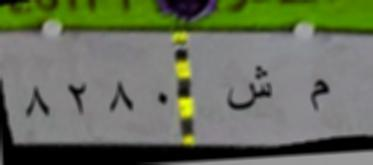0: (150, 78, 176, 116)
2: (64, 72, 97, 118)
8: (102, 66, 140, 122), (24, 79, 52, 127)
meem: (298, 75, 344, 122)
sheen: (219, 61, 280, 115)
